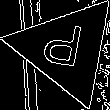P_S: (43, 21, 90, 77)
